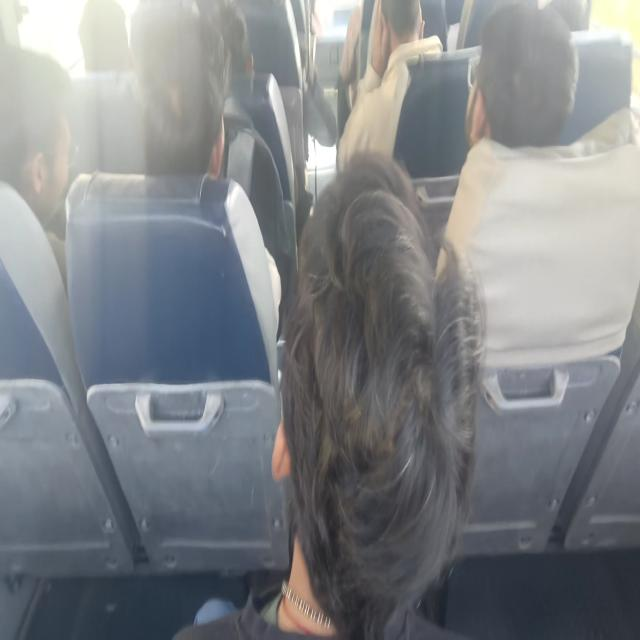person: (274, 132, 481, 614), (468, 0, 582, 152), (140, 7, 226, 168), (0, 44, 74, 192), (210, 0, 256, 89), (81, 0, 132, 70), (374, 0, 427, 58), (556, 0, 600, 42)
